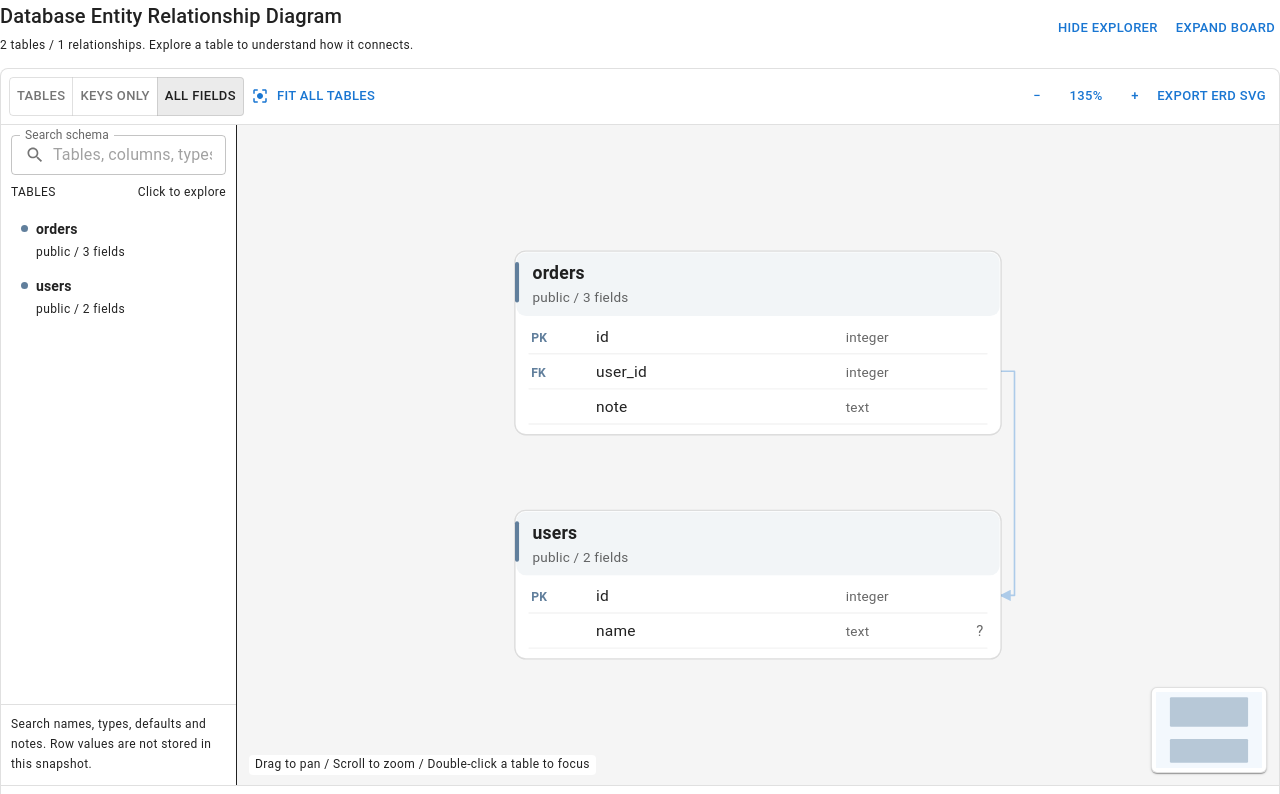
Test: offers a single fitted canvas, zoom controls and expanded mode
This screenshot has width=1280, height=794.
Click the button named "Zoom ERD in" at (1135, 96), box [1120, 81, 1150, 112]
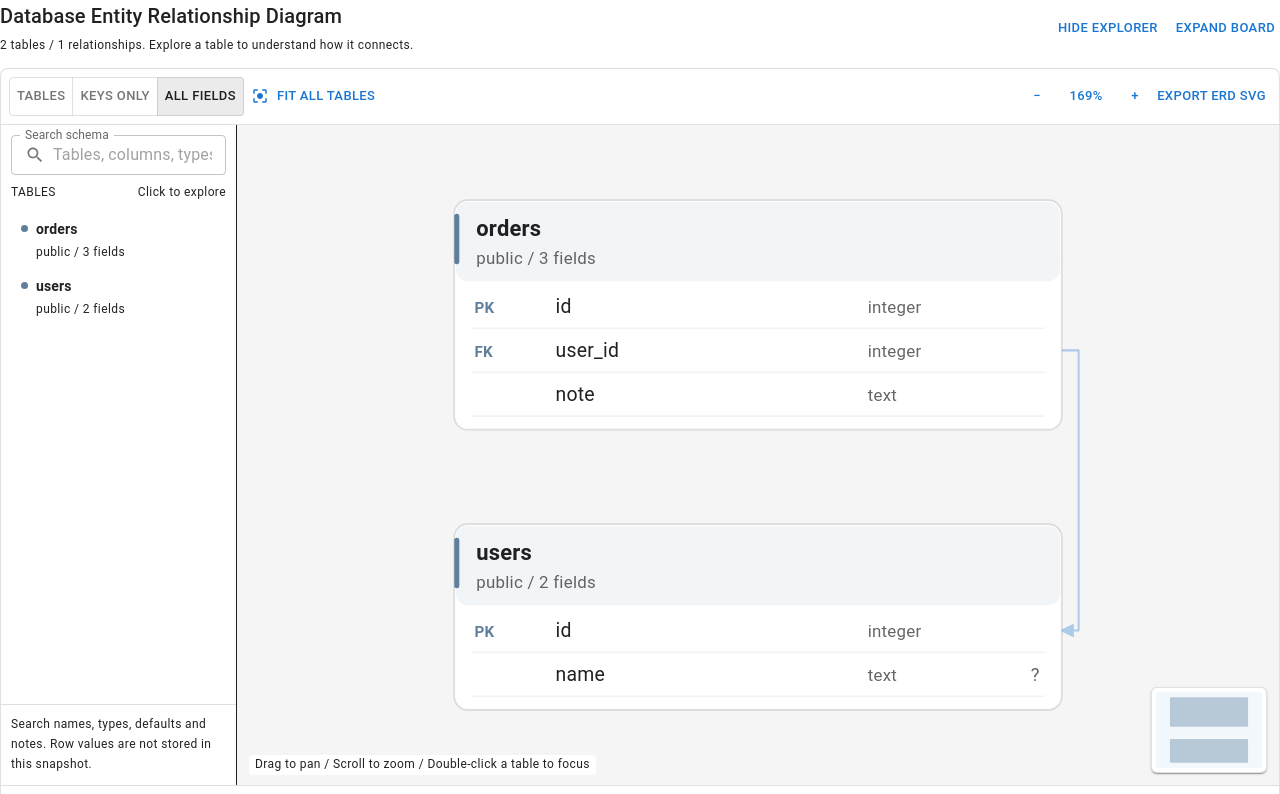
Click the button "Fit all tables" at (314, 96), box [248, 81, 380, 112]
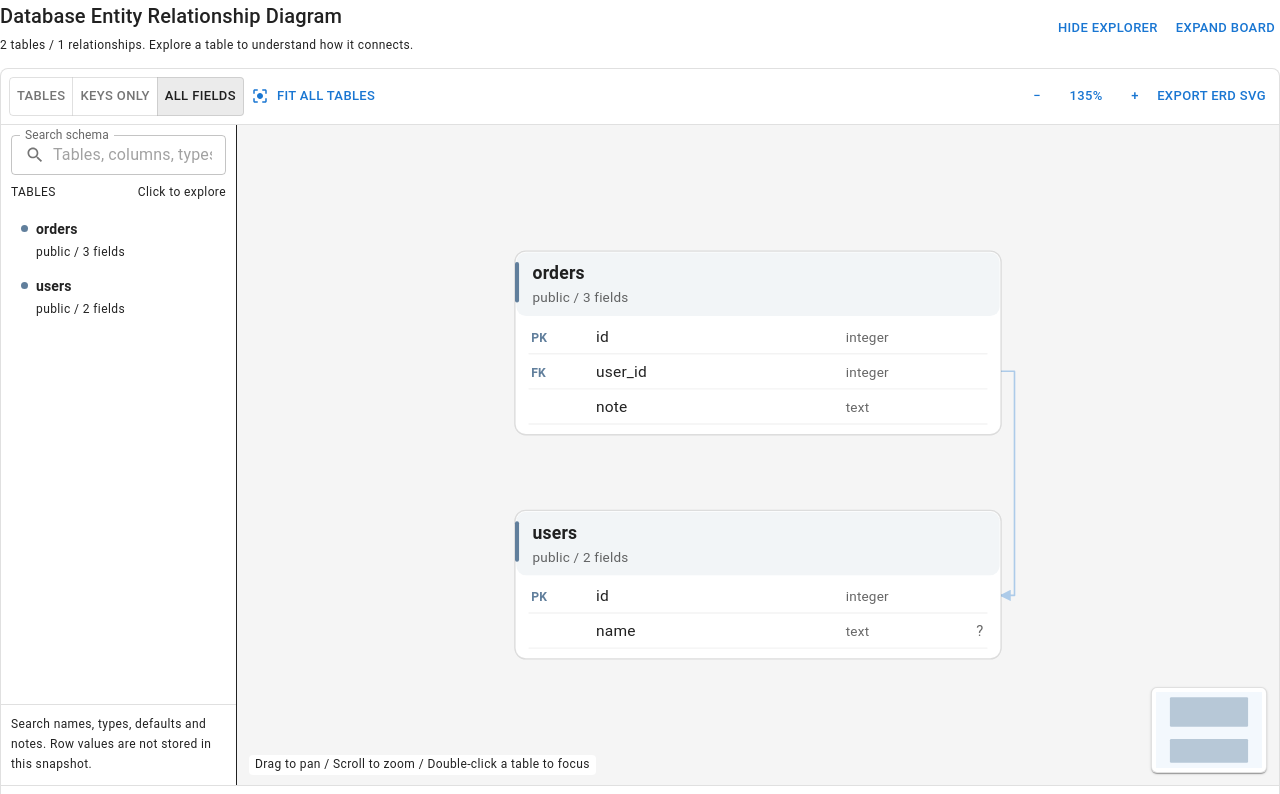
Expected: the button named "Database overview minimap" is shown, [1156, 692, 1262, 768]
Click the button "Expand board" at (1225, 28), box [1171, 13, 1279, 43]
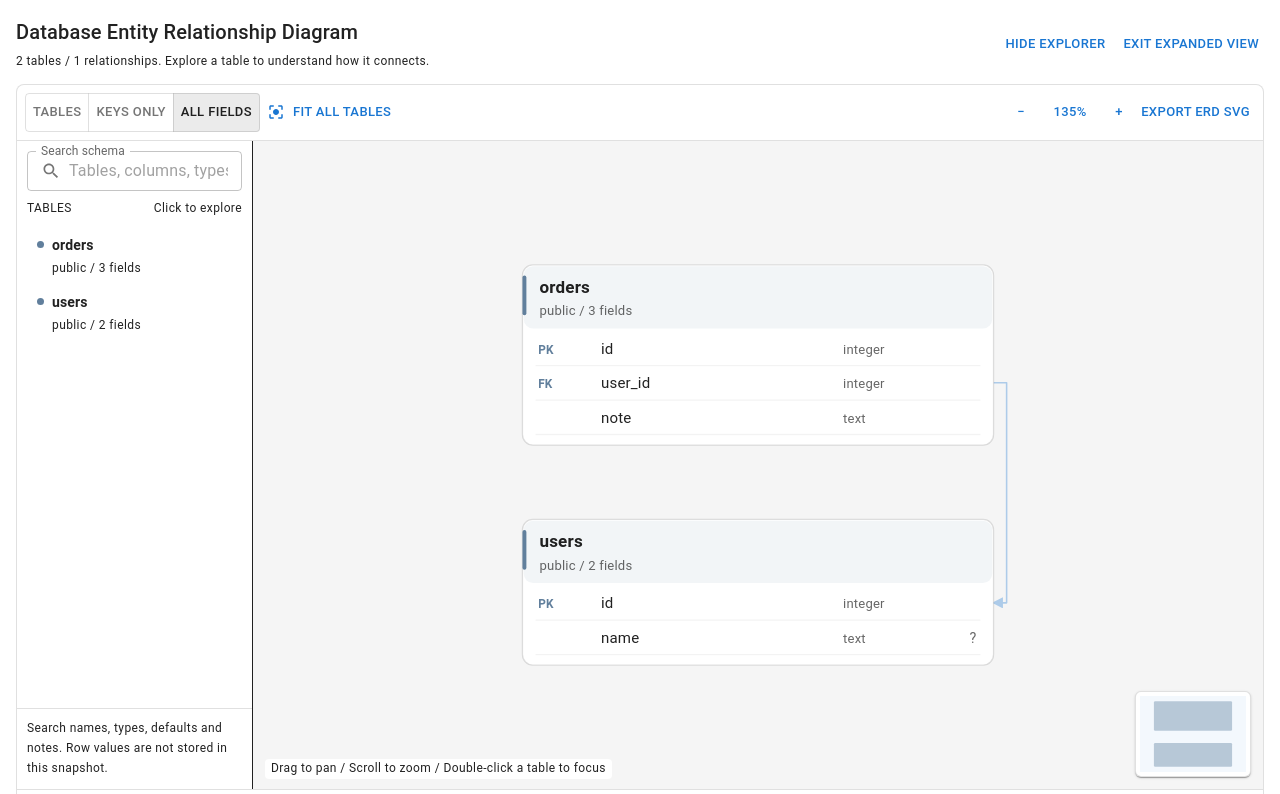
Expected: the button "Exit expanded view" is shown, [1118, 29, 1264, 59]
Press Escape in the element named "Interactive database diagram canvas"
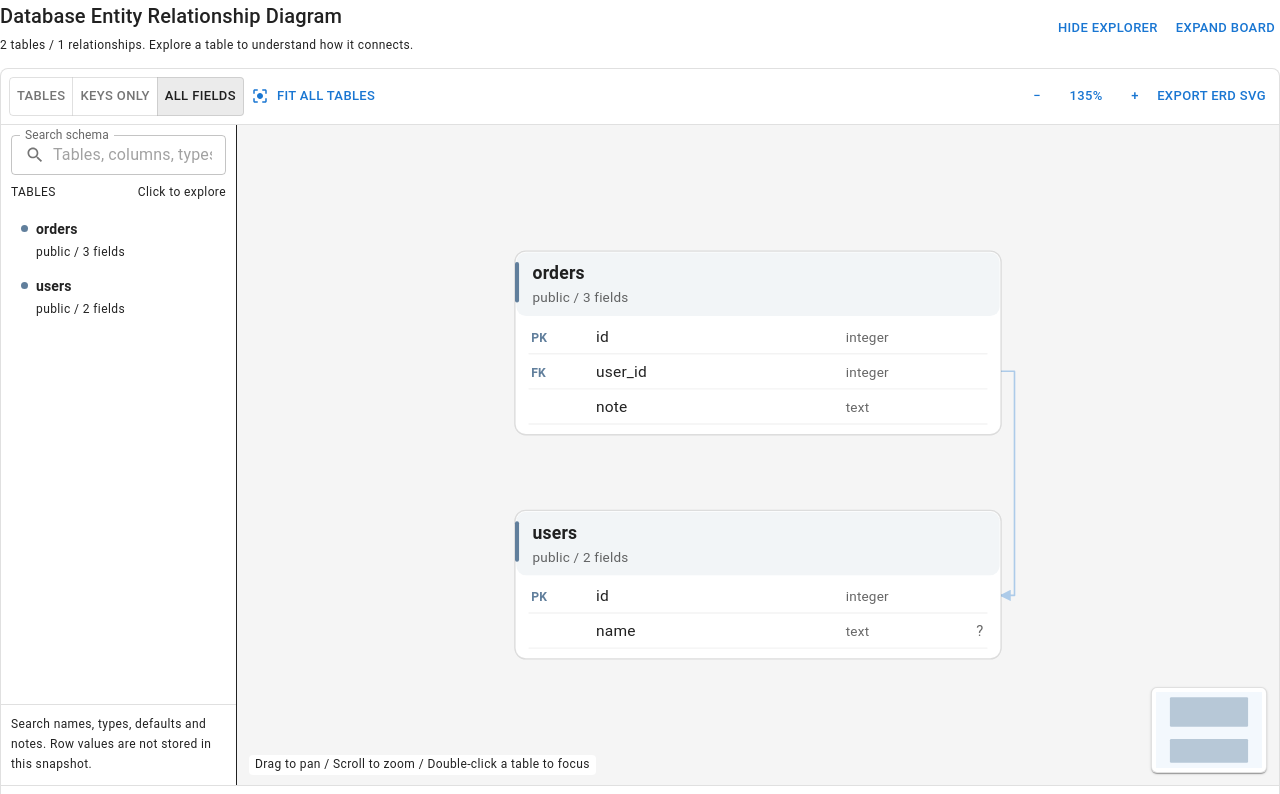
Expected: the button "Expand board" is shown, [1171, 13, 1279, 43]
